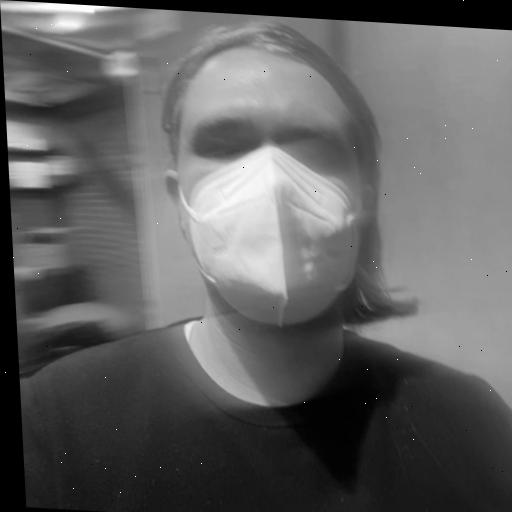mask: (112, 7, 409, 342)
